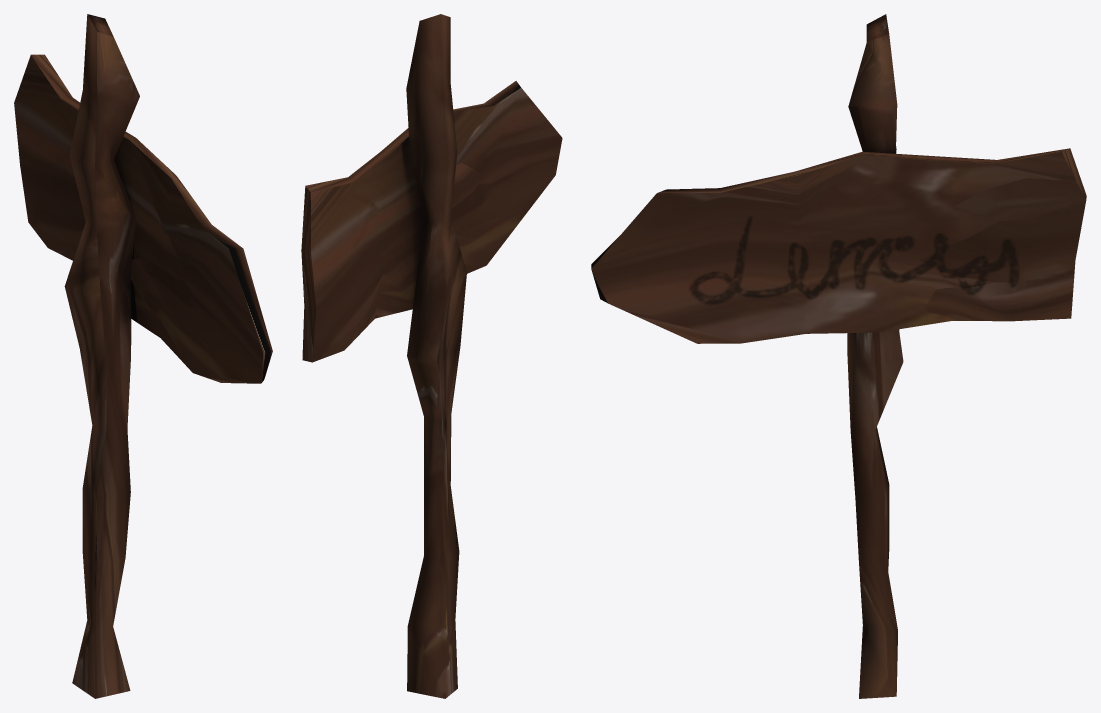
The model's file is sign.fbx.
3 renders of one model, left to right at view 1: azimuth 30°, elevation 25°; view 2: azimuth 150°, elevation 25°; view 3: azimuth 270°, elevation 25°, orthographic.
Visible parts, largest first — view 1: Cube.001, Cube; view 2: Cube.001, Cube; view 3: Cube.001, Cube.
Boxes of the visible parts, <box> form: Cube.001: <box>14,54,272,383</box>; Cube: <box>64,14,139,698</box>; Cube.001: <box>301,81,562,362</box>; Cube: <box>406,14,466,698</box>; Cube.001: <box>591,148,1086,343</box>; Cube: <box>847,14,903,698</box>.
Bounding box in the file's own units: 91.14 × 977 × 653.
